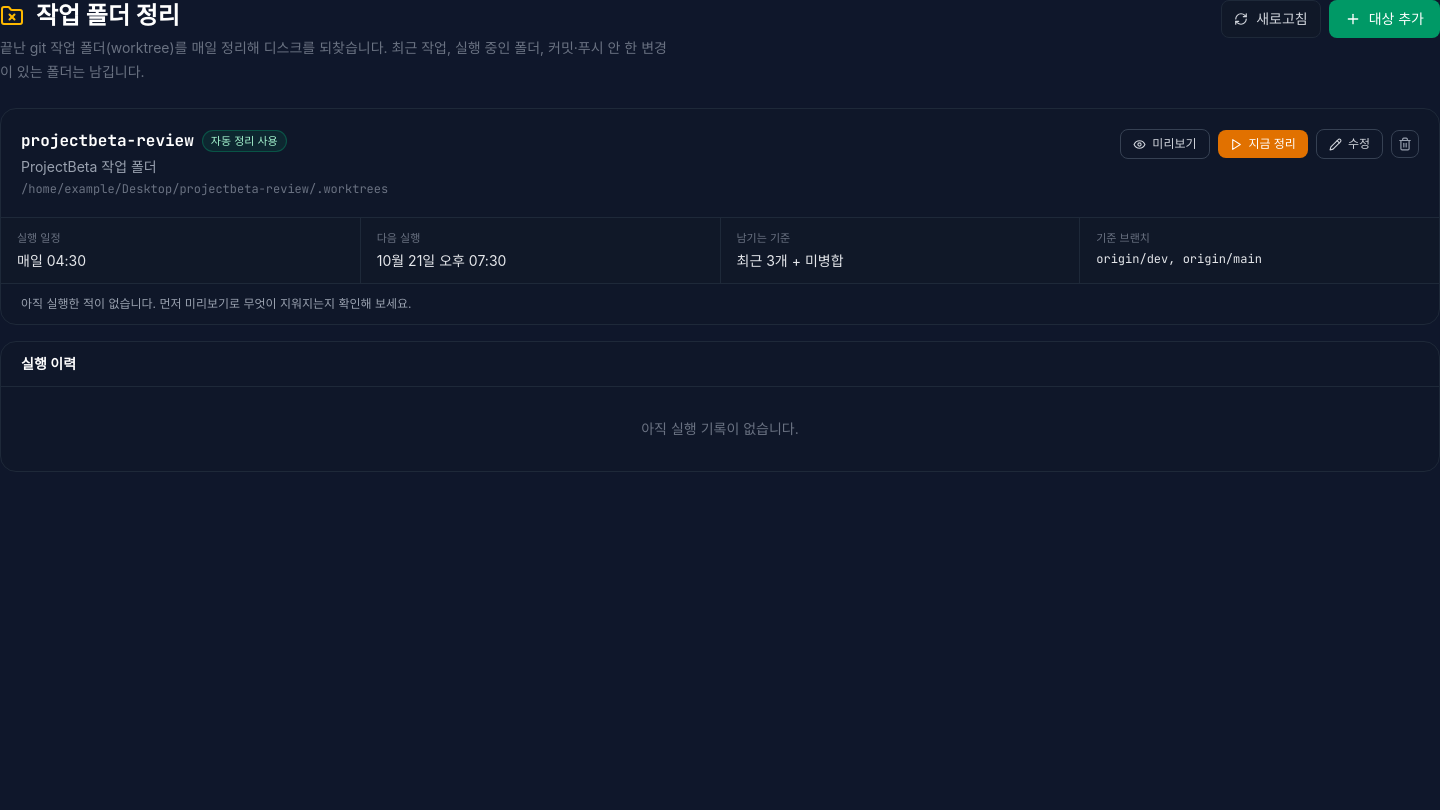
Scenario: WorktreeCleanupView › 지금 정리는 확인을 받은 뒤 시작한다
Click the button "지금 정리".
click(1263, 144)  # box [1218,130,1308,158]
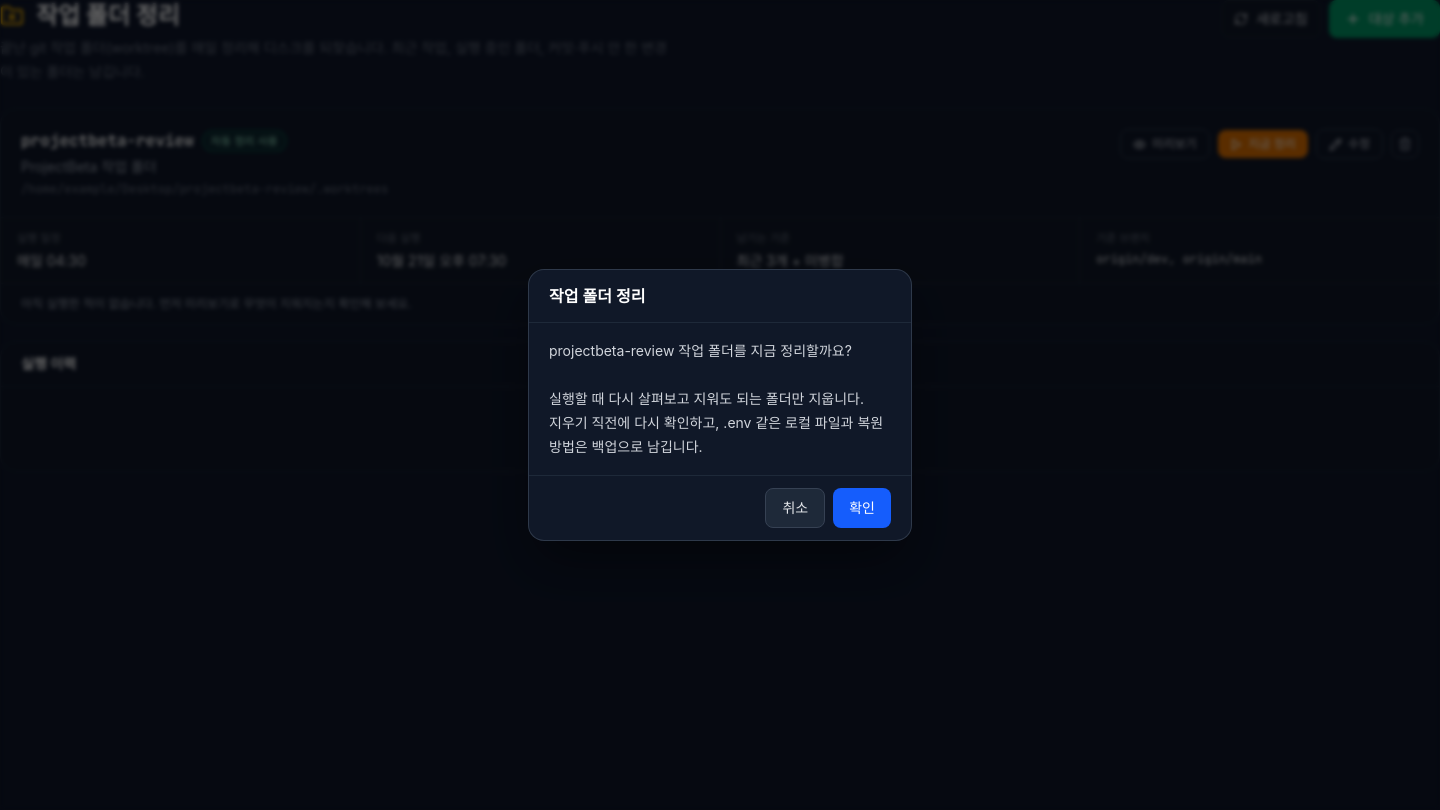
expect the text "로컬 파일과 복원 방법은 백업으로 남깁니다" is shown: met, box [549,342,887,455]
Click the button "확인".
click(862, 508)  # box [833,488,891,528]
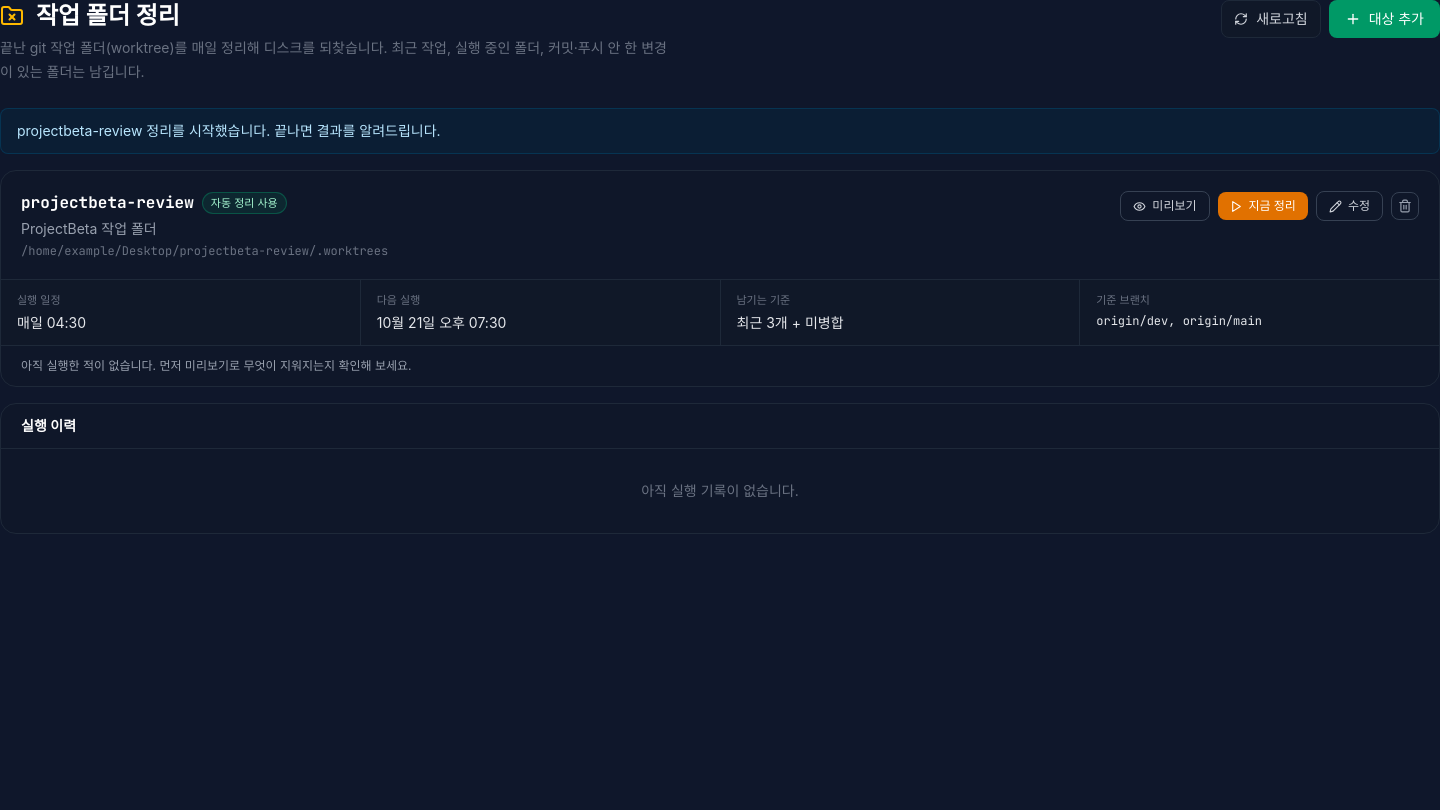
expect the message shows "정리를 시작했습니다": met, box [17,122,441,139]
